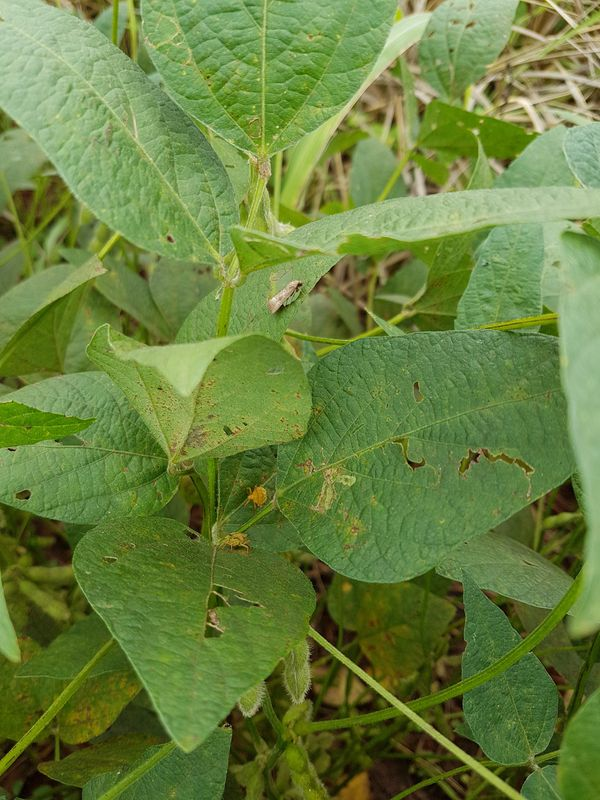Euschistus_heros_ninfa: (217, 527, 257, 559), (238, 481, 275, 514)
